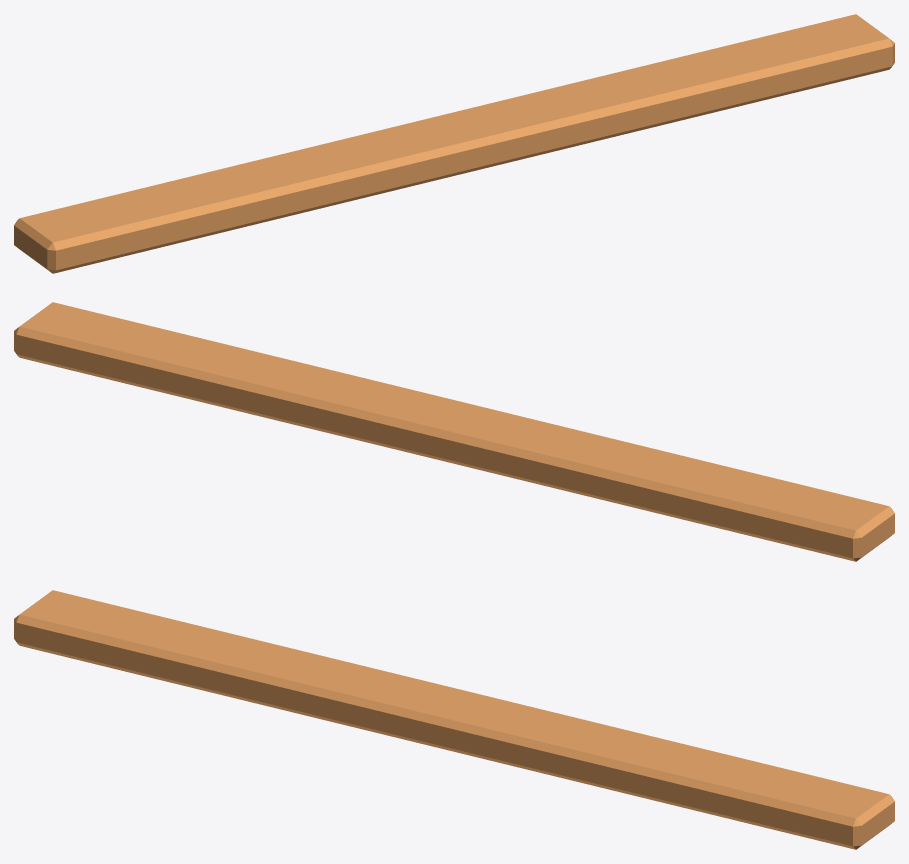
Rendered from Plank A.fbx.
3 renders of one model, top to bottom at view 1: azimuth 30°, elevation 25°; view 2: azimuth 150°, elevation 25°; view 3: azimuth 330°, elevation 25°, orthographic.
Visible parts, largest first — view 1: Plank A; view 2: Plank A; view 3: Plank A.
Part boxes in pixels (<box>): Plank A: <box>14,14,894,273</box>; Plank A: <box>14,302,894,561</box>; Plank A: <box>14,590,894,849</box>.
Size of the model in its own units: 456 by 16.08 by 36.98.
